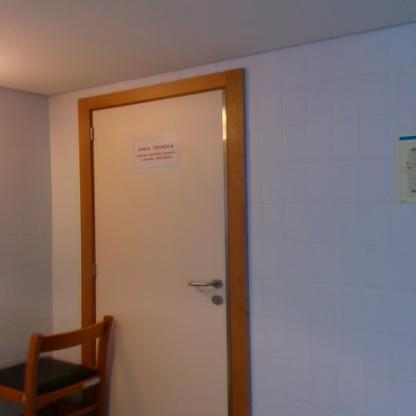door: (92, 108, 232, 416)
hinged: (90, 262, 102, 278), (88, 124, 96, 141)
lever: (182, 278, 221, 290)
